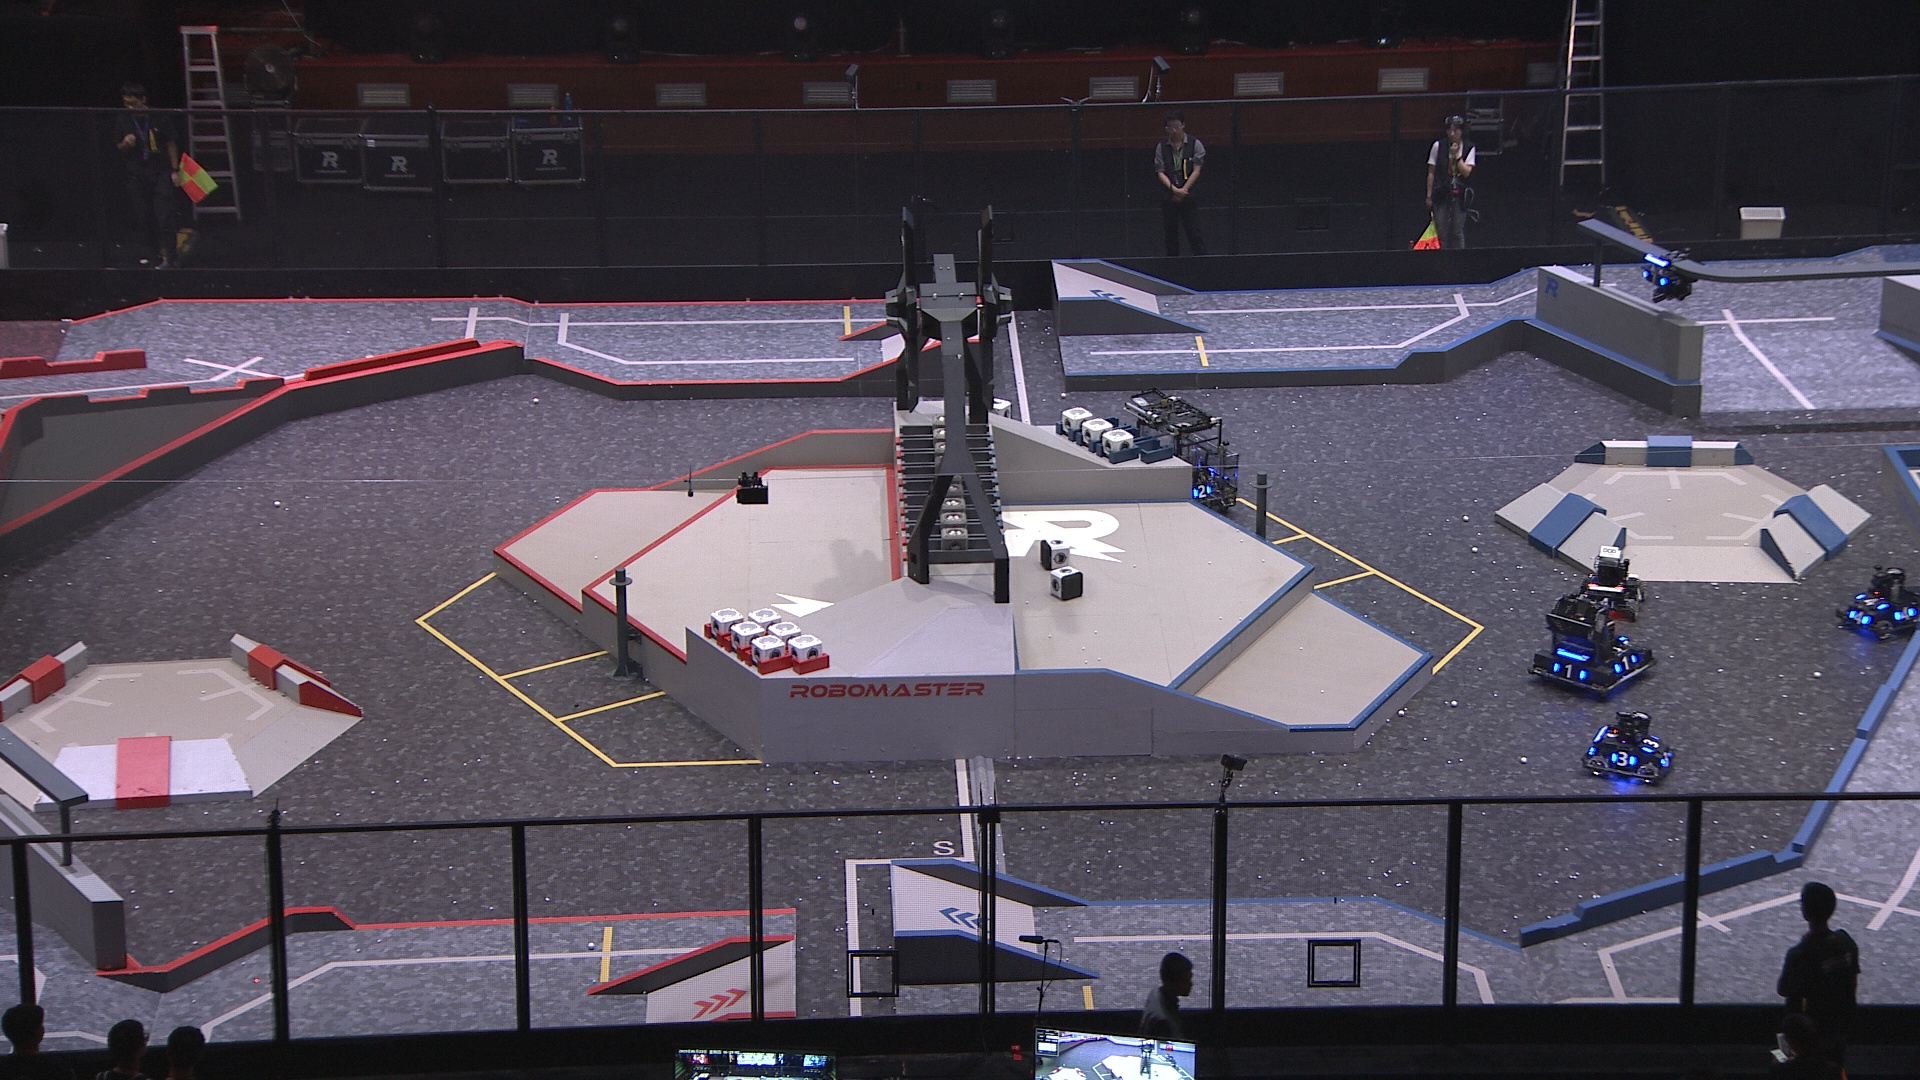armor: (1552, 659, 1588, 680), (1607, 637, 1631, 665), (1855, 589, 1884, 612), (1640, 266, 1667, 289), (1615, 655, 1640, 676), (1642, 733, 1662, 757), (1845, 608, 1870, 626), (1594, 597, 1619, 612), (1656, 749, 1673, 770), (1192, 483, 1212, 498), (1609, 754, 1634, 766), (1894, 605, 1913, 618), (1633, 585, 1643, 603)
car: (1117, 384, 1244, 524), (1524, 593, 1651, 695), (1581, 707, 1679, 789), (1571, 545, 1651, 626), (1840, 564, 1920, 644)
watcher: (1636, 240, 1706, 305)
